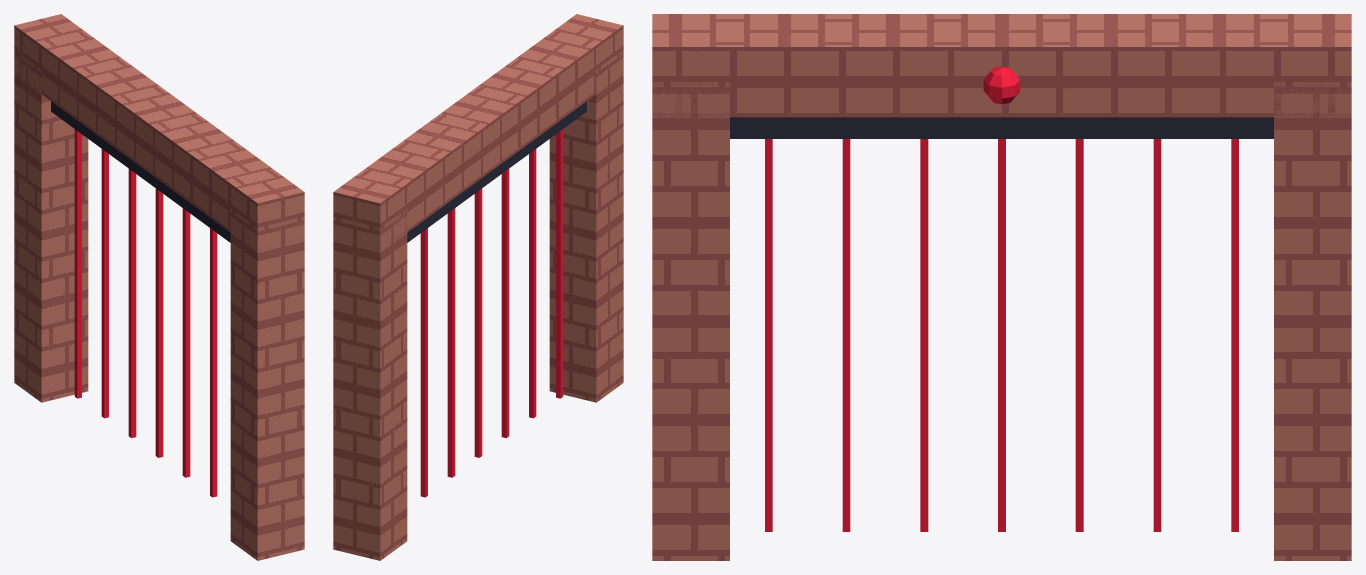
The model's file is pf_herse_laser.glb.
The picture shows the model from 3 angles, left to right: view 1: azimuth 30°, elevation 25°; view 2: azimuth 150°, elevation 25°; view 3: azimuth 270°, elevation 25°; orthographic projection. The views are drawn at different scales.
Visible parts, largest first — view 1: p_box.1579, p_box.1581, p_box.1580, p_box.1585, p_box.1586, p_box.1587, p_box.1588, p_box.1589, p_box.1584, p_box.1582; view 2: p_box.1580, p_box.1581, p_box.1579, p_box.1586, p_box.1587, p_box.1585, p_box.1583, p_box.1584, p_box.1588, p_box.1582; view 3: p_box.1581, p_box.1579, p_box.1580, p_box.1582, p_box.1584, p_box.1585, p_box.1587, p_box.1588, p_box.1583, p_box.1586, p_box.1589, p_sph.404.
Part boxes in pixels (<box>): p_box.1579: <box>230,208,304,560</box>; p_box.1581: <box>14,14,304,251</box>; p_box.1580: <box>14,50,88,402</box>; p_box.1585: <box>182,208,190,477</box>; p_box.1586: <box>155,188,163,457</box>; p_box.1587: <box>128,169,136,438</box>; p_box.1588: <box>101,149,108,418</box>; p_box.1589: <box>74,129,81,398</box>; p_box.1584: <box>210,228,217,497</box>; p_box.1582: <box>51,101,230,242</box>; p_box.1580: <box>333,208,407,560</box>; p_box.1581: <box>333,14,623,251</box>; p_box.1579: <box>549,50,623,402</box>; p_box.1586: <box>474,188,482,457</box>; p_box.1587: <box>447,208,455,477</box>; p_box.1585: <box>501,169,509,438</box>; p_box.1583: <box>556,129,563,398</box>; p_box.1584: <box>529,149,536,418</box>; p_box.1588: <box>420,228,427,497</box>; p_box.1582: <box>407,101,586,242</box>; p_box.1581: <box>652,14,1351,117</box>; p_box.1579: <box>652,82,729,560</box>; p_box.1580: <box>1274,82,1351,560</box>; p_box.1582: <box>730,117,1273,138</box>; p_box.1584: <box>842,139,850,531</box>; p_box.1585: <box>920,139,928,531</box>; p_box.1587: <box>1075,139,1083,531</box>; p_box.1588: <box>1153,139,1161,531</box>; p_box.1583: <box>765,139,772,531</box>; p_box.1586: <box>998,139,1005,531</box>; p_box.1589: <box>1231,139,1238,531</box>; p_sph.404: <box>983,66,1020,104</box>.
Bounding box in the file's own units: 0.6689 × 3.65 × 4.5.
Materials: 3 (1 with a texture image).
